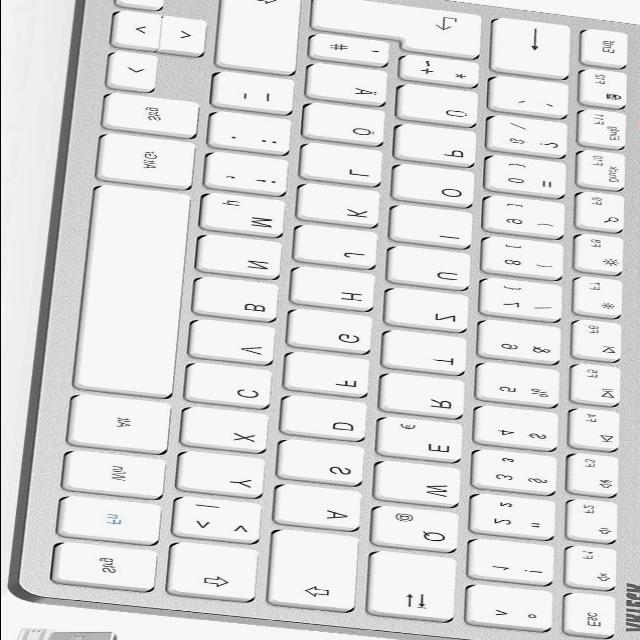0: (488, 157, 574, 199)
1: (471, 541, 561, 586)
2: (472, 495, 562, 540)
3: (474, 451, 564, 496)
4: (478, 408, 566, 452)
5: (479, 364, 567, 409)
6: (480, 321, 568, 365)
7: (482, 280, 570, 322)
8: (485, 239, 571, 281)
9: (486, 199, 572, 239)
a: (276, 486, 368, 531)
accent: (493, 78, 575, 118)
ae: (309, 65, 393, 107)
alt-left: (70, 395, 180, 456)
altgr-right: (100, 135, 204, 191)
b: (196, 278, 286, 324)
c: (189, 364, 279, 410)
caret: (468, 587, 558, 633)
comma: (207, 155, 295, 197)
d: (282, 397, 376, 442)
del: (494, 19, 576, 79)
e: (379, 418, 471, 463)
enter: (313, 0, 493, 61)
f: (287, 354, 377, 398)
g: (291, 311, 379, 355)
h: (293, 269, 381, 311)
hash: (312, 35, 398, 67)
i: (392, 207, 480, 249)
j: (298, 228, 384, 270)
k: (300, 185, 388, 227)
keyboard: (7, 0, 640, 640)
l: (302, 146, 390, 186)
less: (175, 498, 269, 546)
m: (204, 195, 292, 238)
minus: (215, 74, 299, 116)
n: (200, 237, 288, 280)
o: (395, 166, 481, 208)
oe: (306, 104, 392, 147)
p: (398, 126, 484, 167)
plus: (403, 57, 487, 89)
point: (211, 114, 297, 157)
q: (374, 505, 466, 554)
r: (382, 375, 472, 419)
s: (279, 441, 371, 487)
shift-left: (171, 543, 263, 604)
shift-lock: (270, 531, 366, 615)
shift-right: (218, 0, 308, 76)
space: (81, 190, 195, 400)
ss: (491, 118, 575, 159)
strg-left: (53, 542, 165, 593)
strg-right: (106, 94, 206, 139)
t: (385, 333, 473, 375)
tab: (370, 554, 464, 624)
u: (390, 248, 478, 291)
ue: (399, 86, 485, 128)
v: (193, 321, 283, 366)
w: (378, 463, 468, 507)
x: (184, 409, 274, 453)
y: (180, 453, 272, 499)
z: (388, 290, 476, 333)
